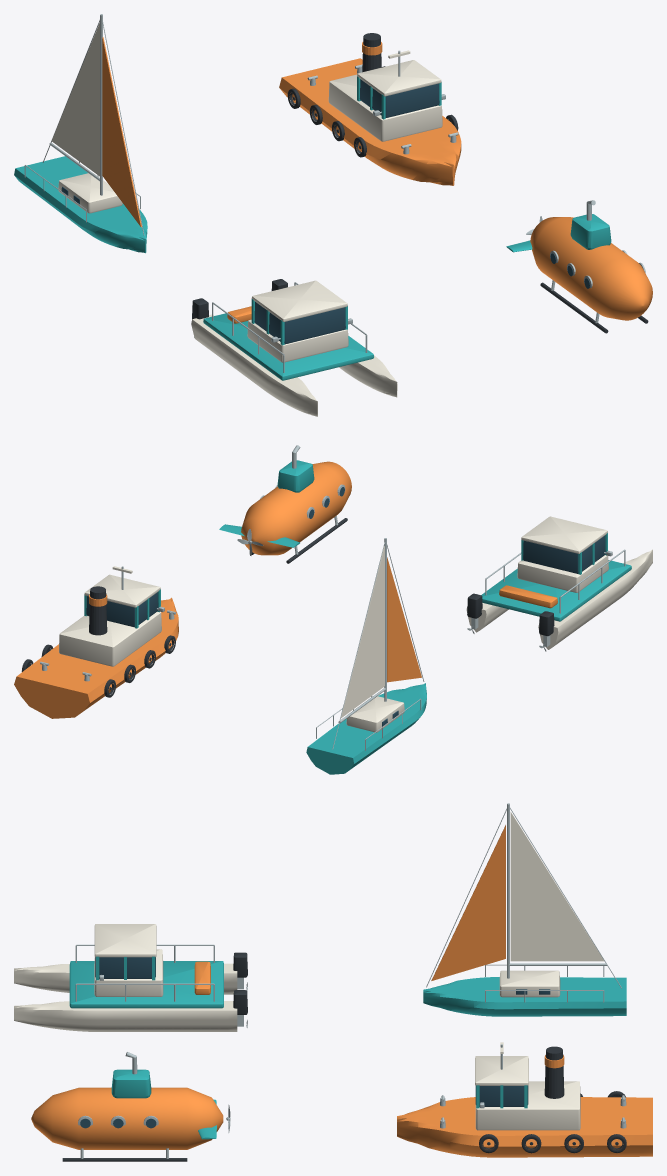
Rendered from air-land-sea-vehicles-sea-showcase-79b9e417__20037.glb.
3 renders of one model, top to bottom at view 1: azimuth 30°, elevation 25°; view 2: azimuth 150°, elevation 25°; view 3: azimuth 270°, elevation 25°, orthographic. The views are drawn at different scales.
Parts seen in each view (by area): view 1: 002-power-catamaran/0, 001-harbour-tug/0, 003-research-submarine/0, 000-coastal-sailboat/1, 001-harbour-tug/1, 000-coastal-sailboat/0, 002-power-catamaran/1, 000-coastal-sailboat/4, 002-power-catamaran/2, 001-harbour-tug/2, 000-coastal-sailboat/3, 003-research-submarine/1; view 2: 002-power-catamaran/0, 001-harbour-tug/0, 003-research-submarine/0, 001-harbour-tug/1, 000-coastal-sailboat/1, 000-coastal-sailboat/0, 002-power-catamaran/1, 000-coastal-sailboat/4, 002-power-catamaran/2, 003-research-submarine/1, 000-coastal-sailboat/3, 001-harbour-tug/2 (+4 smaller); view 3: 002-power-catamaran/0, 001-harbour-tug/0, 003-research-submarine/0, 000-coastal-sailboat/1, 000-coastal-sailboat/0, 001-harbour-tug/1, 000-coastal-sailboat/4, 002-power-catamaran/1, 000-coastal-sailboat/3, 003-research-submarine/1, 002-power-catamaran/2, 001-harbour-tug/2 (+4 smaller).
Boxes of the visible parts, x1,y1,x2,y2 form: 002-power-catamaran/0: (191, 280, 397, 416); 001-harbour-tug/0: (279, 42, 461, 185); 003-research-submarine/0: (530, 217, 652, 320); 000-coastal-sailboat/1: (51, 23, 122, 213); 001-harbour-tug/1: (328, 50, 442, 141); 000-coastal-sailboat/0: (14, 156, 147, 253); 002-power-catamaran/1: (203, 299, 373, 380); 000-coastal-sailboat/4: (102, 37, 141, 227); 002-power-catamaran/2: (254, 301, 345, 344); 001-harbour-tug/2: (359, 79, 439, 117); 000-coastal-sailboat/3: (24, 14, 144, 235); 003-research-submarine/1: (506, 214, 611, 252); 002-power-catamaran/0: (466, 516, 652, 649); 001-harbour-tug/0: (14, 594, 178, 718); 003-research-submarine/0: (241, 461, 351, 555); 001-harbour-tug/1: (58, 566, 161, 666); 000-coastal-sailboat/1: (341, 546, 404, 732); 000-coastal-sailboat/0: (306, 683, 426, 774); 002-power-catamaran/1: (481, 533, 631, 621); 000-coastal-sailboat/4: (387, 557, 421, 682); 002-power-catamaran/2: (523, 535, 605, 573); 003-research-submarine/1: (219, 460, 314, 547); 000-coastal-sailboat/3: (316, 538, 424, 750); 001-harbour-tug/2: (86, 592, 158, 627); 002-power-catamaran/0: (14, 924, 237, 1031); 001-harbour-tug/0: (397, 1055, 652, 1157); 003-research-submarine/0: (31, 1087, 223, 1149); 000-coastal-sailboat/1: (499, 812, 603, 997); 000-coastal-sailboat/0: (423, 977, 626, 1016); 001-harbour-tug/1: (475, 1042, 580, 1130); 000-coastal-sailboat/4: (431, 825, 505, 980); 002-power-catamaran/1: (69, 956, 223, 1008); 000-coastal-sailboat/3: (426, 803, 621, 1002); 003-research-submarine/1: (111, 1069, 216, 1139); 002-power-catamaran/2: (95, 957, 155, 978); 001-harbour-tug/2: (475, 1086, 528, 1106).
Bounding box in the file's own units: 13.37 × 7.04 × 19.46.
